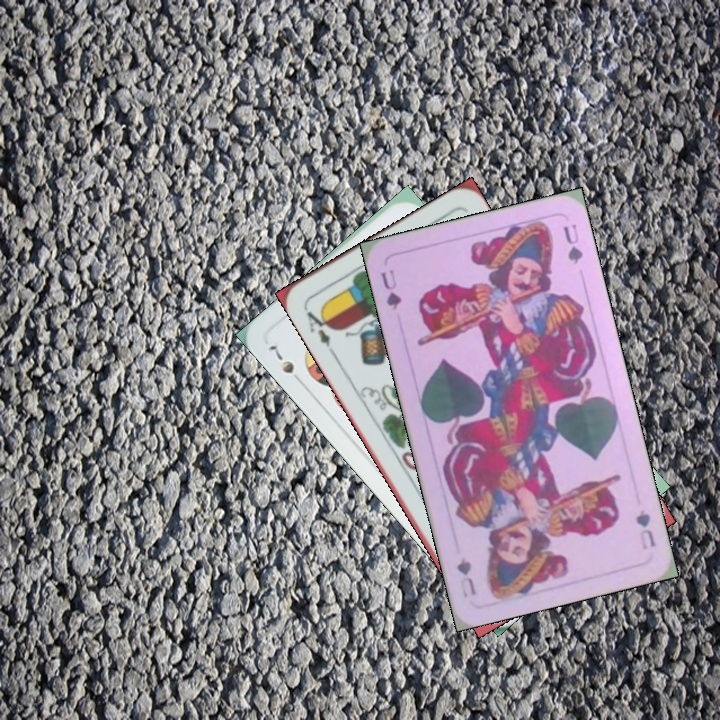EA: (300, 302, 338, 357)
GU: (377, 265, 404, 313), (632, 505, 658, 552)
S7: (263, 341, 307, 388)
